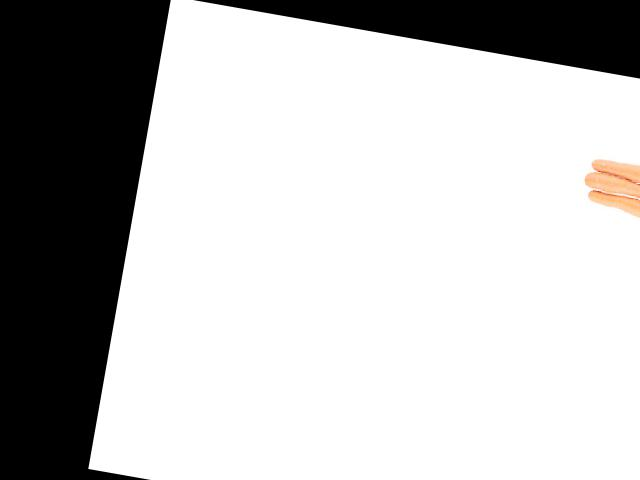carrot: (582, 153, 640, 187)
